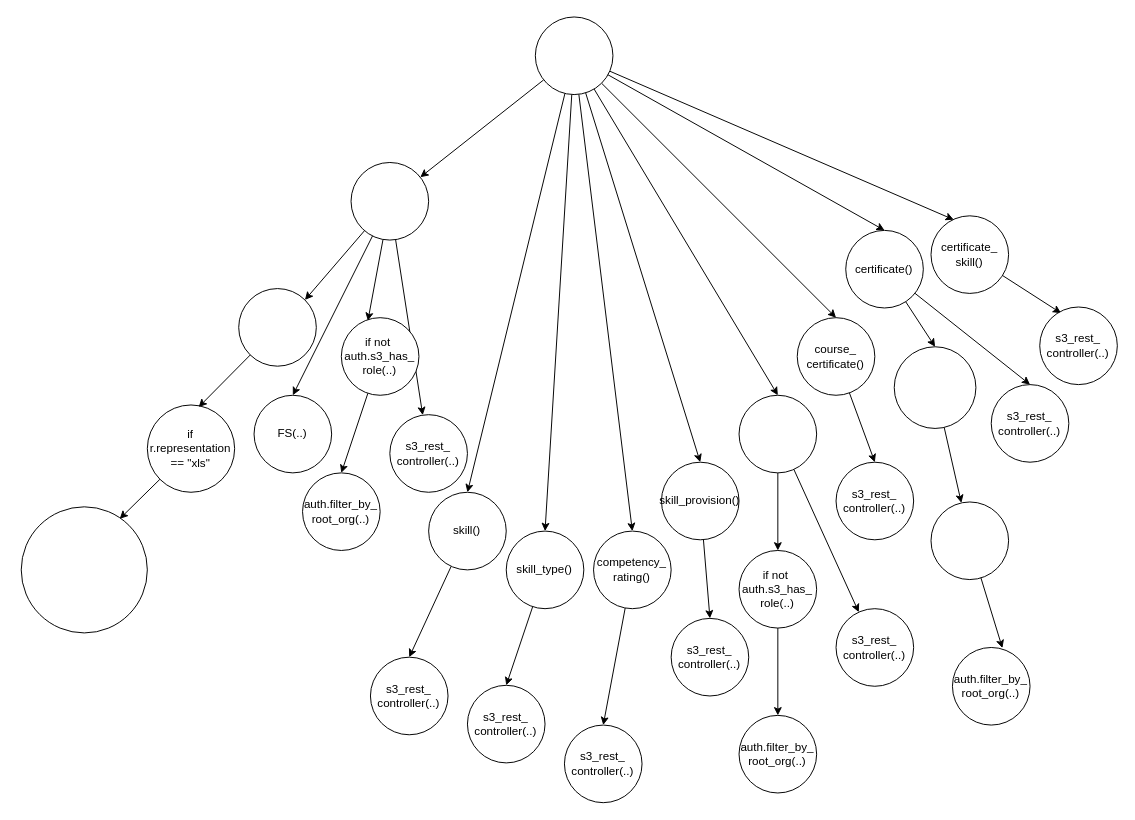
This 1135x820 diagram has some shape labels left out. Here are the shapes that lost their labels. From the top down, the centre of each, then its label:
At (x=573, y=55): "vol.py".
At (x=389, y=201): "job_title()".
At (x=277, y=327): "prep()".
At (x=934, y=387): "if settings.get_ hrm_filter_ certificate()".
At (x=777, y=433): "course()".
At (x=969, y=540): "and not auth.s3_has_ role(..)".
At (x=83, y=569): "s3db.org_ OrganisationRepresent(..)".
